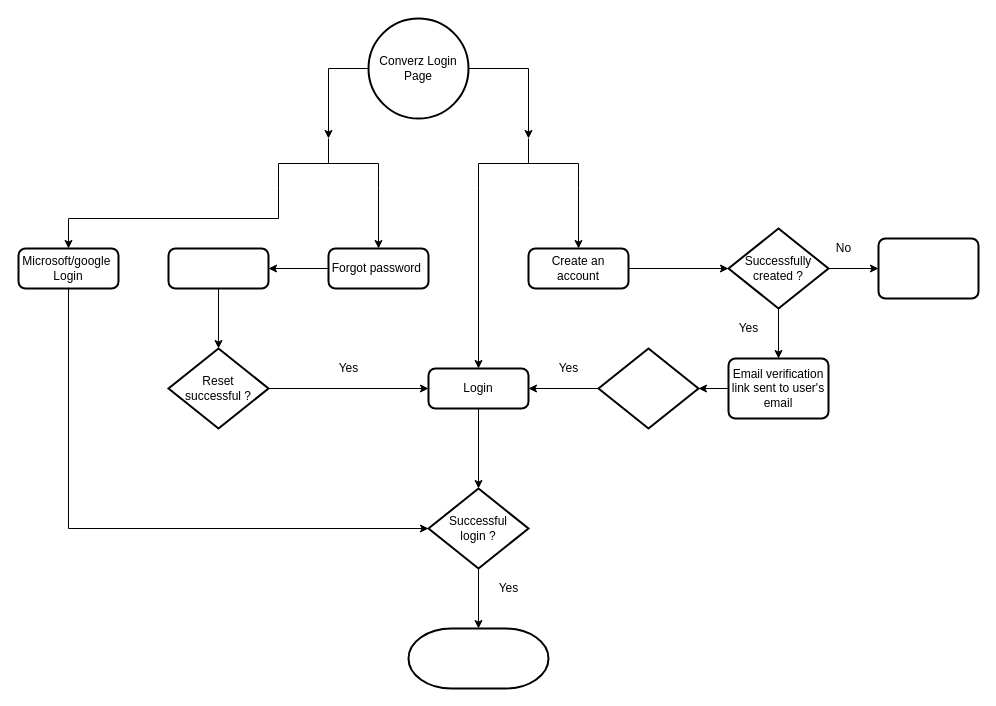
Some shapes in this 996 by 706 pixel diagram are drawn without their labels. Each missing label, with the centre of its shape:
"Application Page" belongs at point (478, 658).
"Check Email Id or password" belongs at point (928, 268).
"Email verified ?" belongs at point (648, 388).
"Reset password" belongs at point (218, 268).
